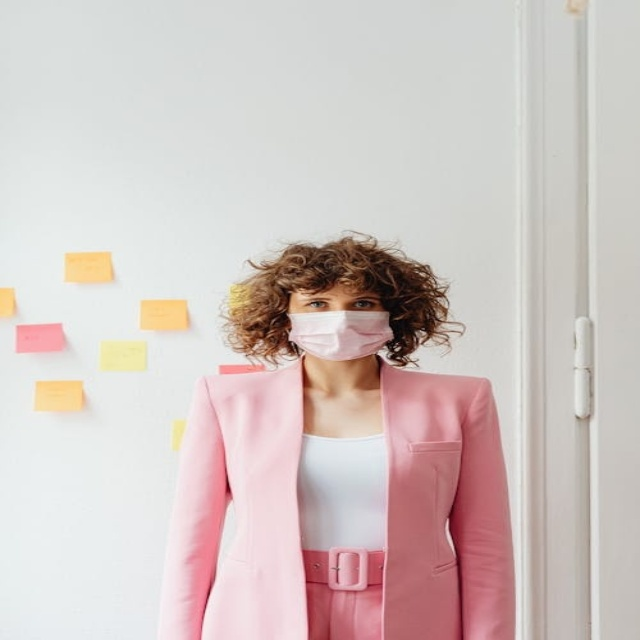Mascara: (286, 310, 394, 361)
Sin_gafas: (294, 293, 378, 308)
